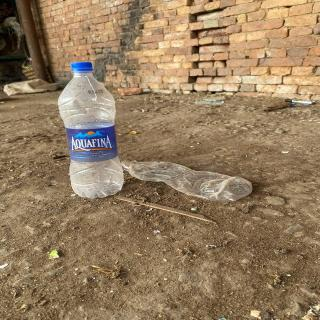Plastic-bottle: (55, 60, 129, 202), (122, 153, 258, 206)
